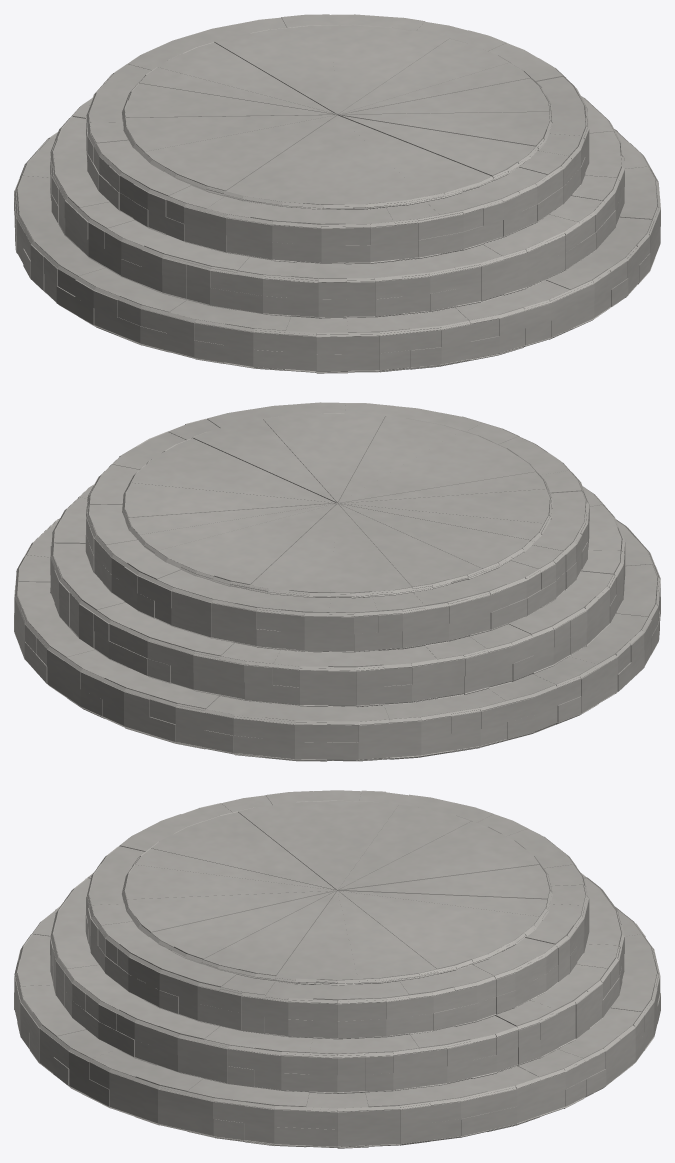
The model's file is 계단받침.glb.
3 renders of one model, top to bottom at view 1: azimuth 30°, elevation 25°; view 2: azimuth 150°, elevation 25°; view 3: azimuth 270°, elevation 25°, orthographic.
Parts seen in each view (by area): view 1: 계단받침_구움; view 2: 계단받침_구움; view 3: 계단받침_구움.
Part boxes in pixels (x1,y1,x2,y2): 계단받침_구움: [14, 14, 660, 373]; 계단받침_구움: [14, 402, 660, 761]; 계단받침_구움: [14, 790, 660, 1148].
Bounding box in the file's own units: 7.53 × 1.59 × 7.53.
Materials: 1 (1 with a texture image).
